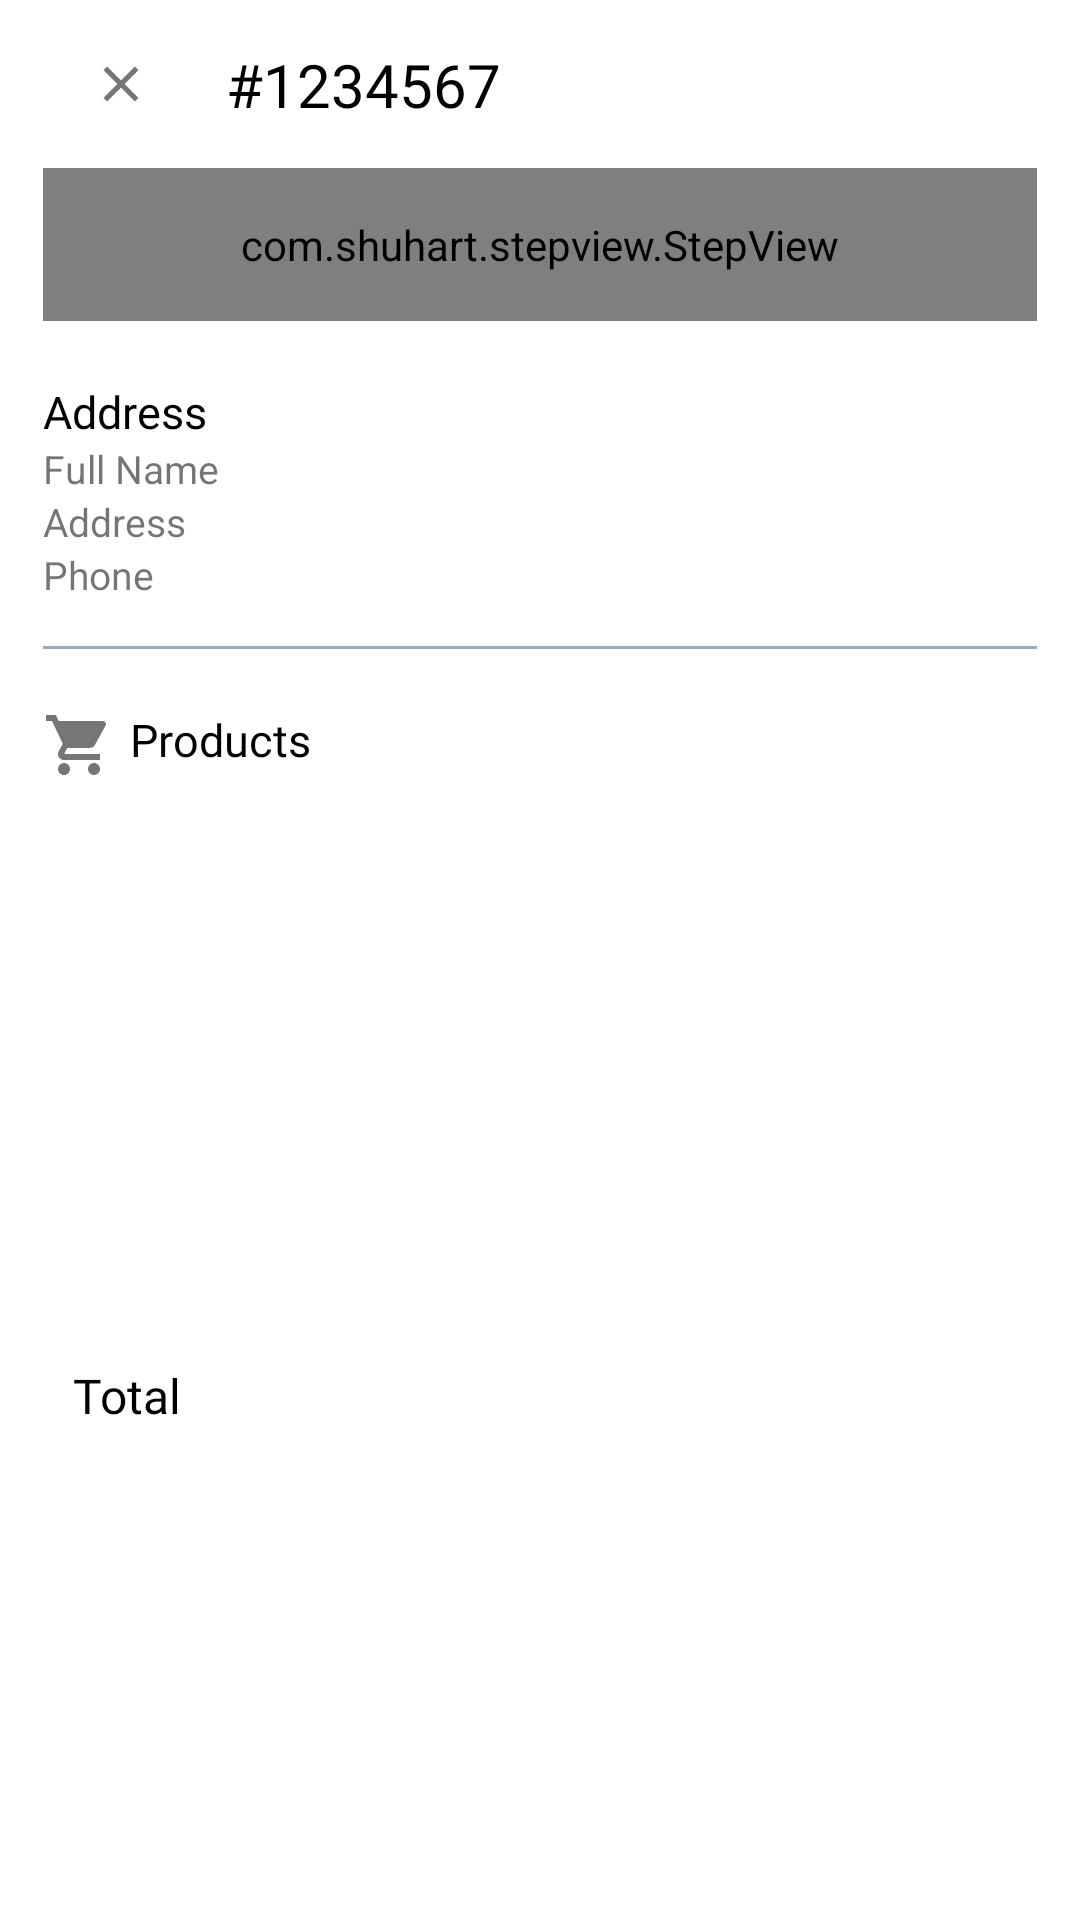

Screen size 1080px×1920px. Icon name, then its box in pixels as (x1, y1, x2, y2):
close: (103, 66, 139, 102)
